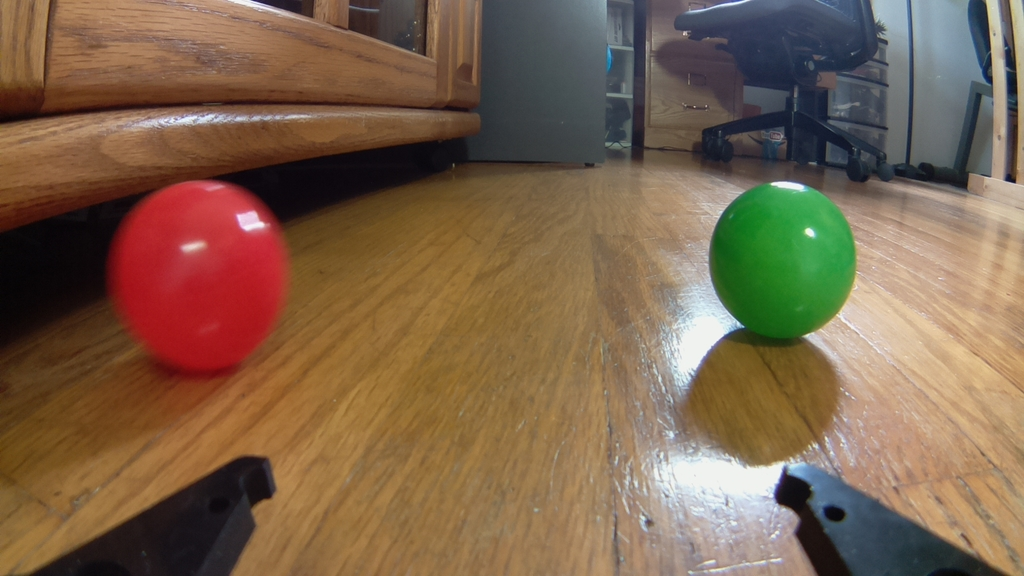ball: (102, 176, 295, 375)
